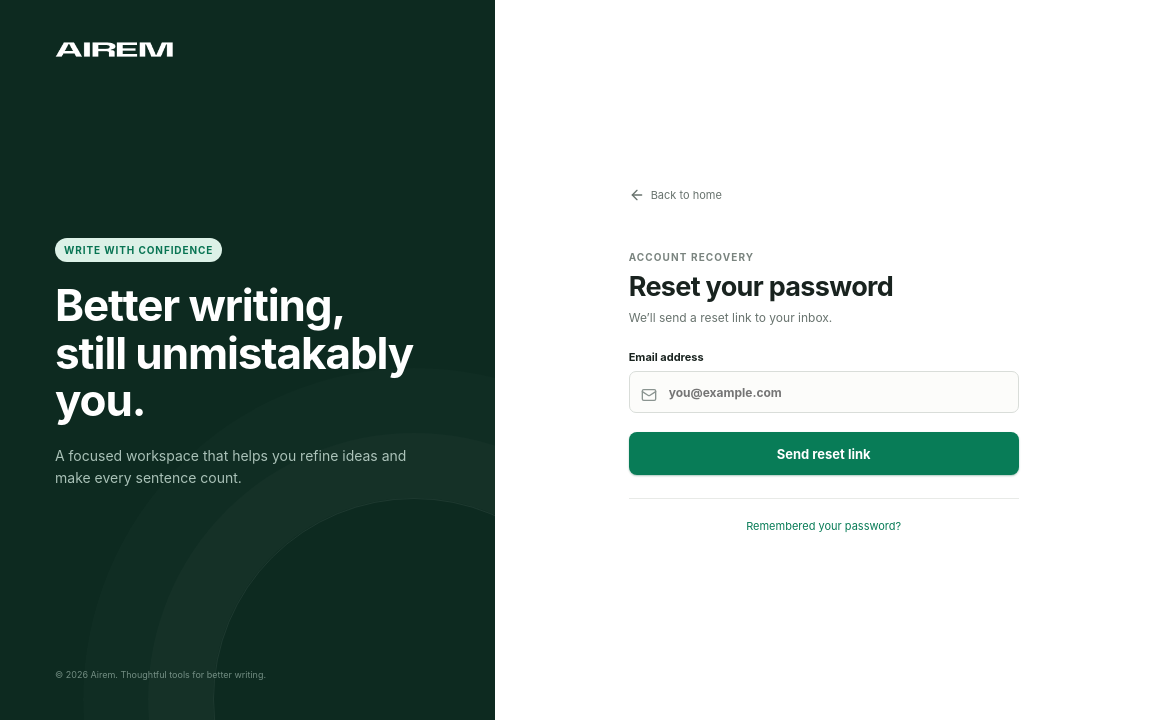
authentication forms › shows the privacy-preserving reset confirmation
Type "person@example.test" into the field labelled "Email address" at (824, 392), box [629,371,1019,413]
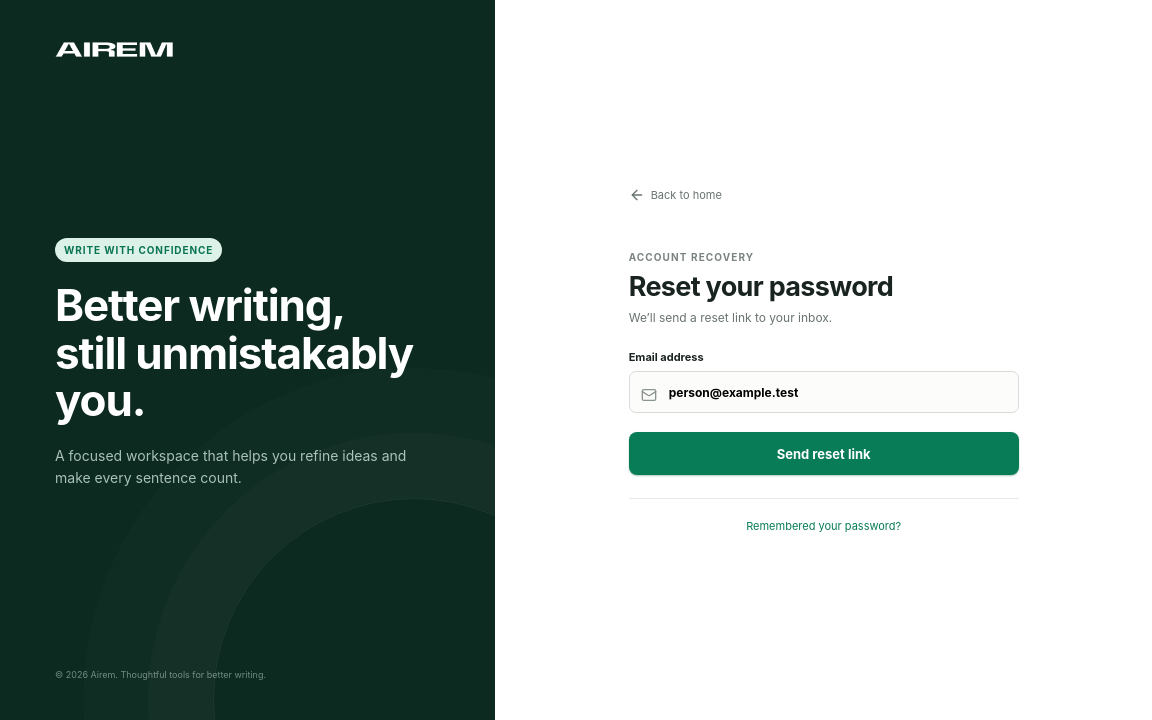
Click the button "Send reset link" at (824, 454), box [629,432,1019,475]
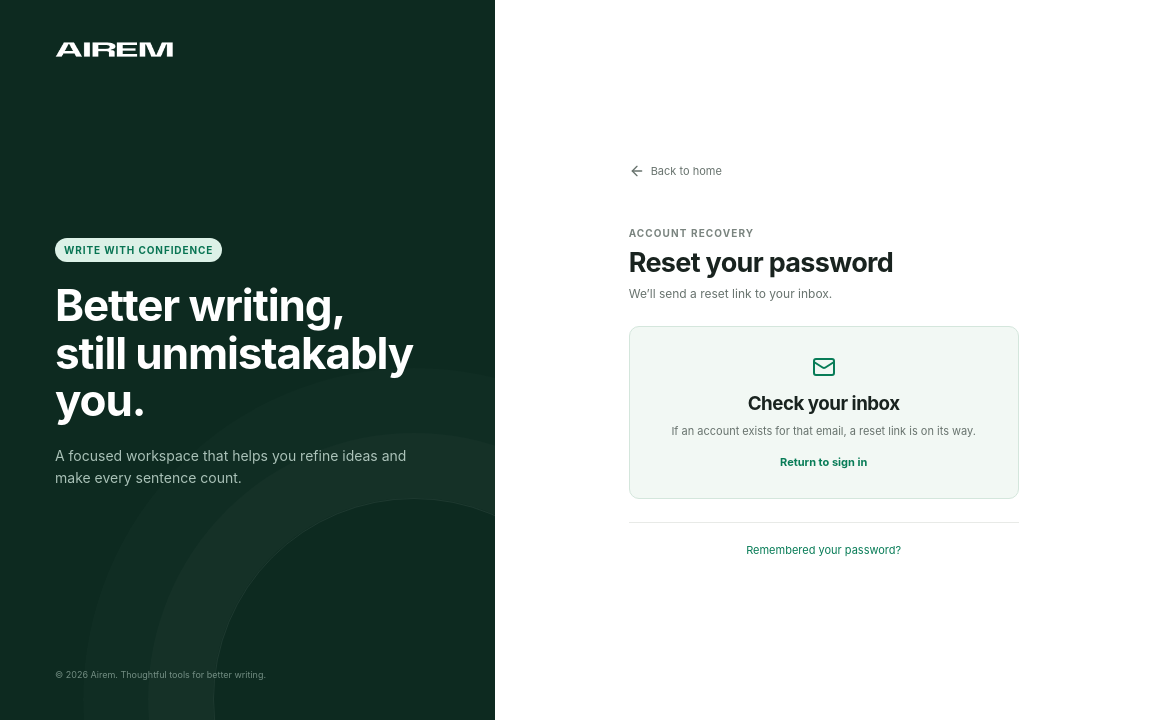
Now the message shows "If an account exists", box [671,424,976,438]
